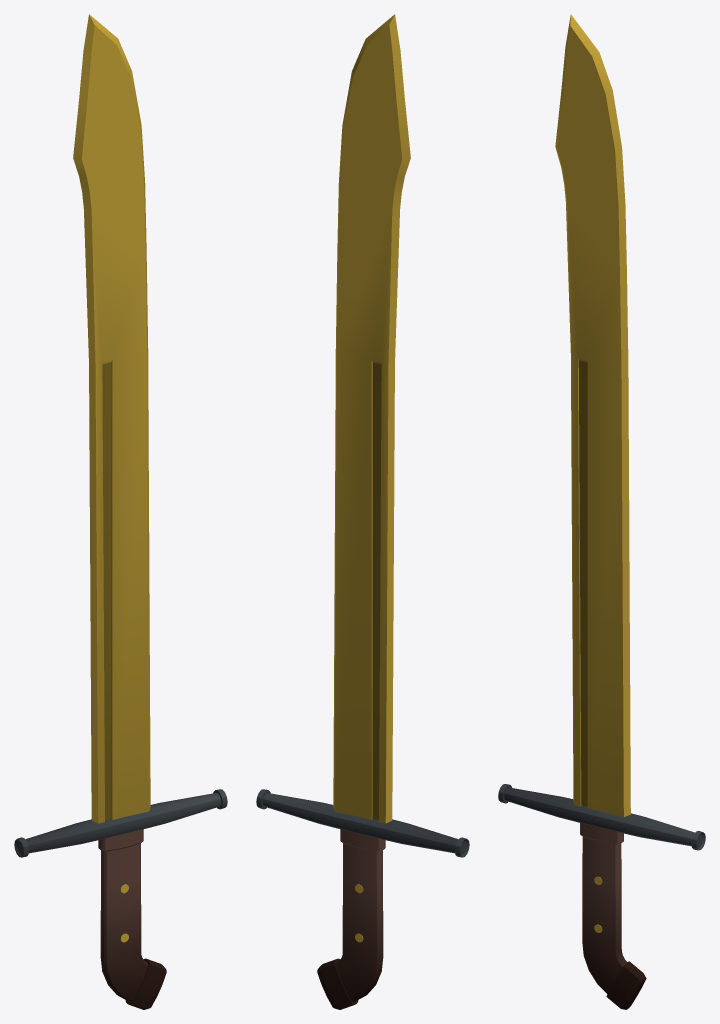
The model's file is SM_Sword12_GrosseMesser_2Gold.fbx.
3 views of the same model, side by side, from view 1: azimuth 30°, elevation 25°; view 2: azimuth 150°, elevation 25°; view 3: azimuth 330°, elevation 25° (orthographic). The views are drawn at different scales.
Visible parts, largest first — view 1: Cube.054, Cube.379, Cylinder.044; view 2: Cube.054, Cube.379, Cylinder.044; view 3: Cube.054, Cube.379, Cylinder.044.
Boxes of the visible parts, left/top/right/bottom form: Cube.054: left=73, top=14, right=150, bottom=823; Cube.379: left=98, top=829, right=166, bottom=1009; Cylinder.044: left=14, top=789, right=227, bottom=857; Cube.054: left=333, top=14, right=410, bottom=823; Cube.379: left=317, top=829, right=385, bottom=1009; Cylinder.044: left=256, top=789, right=469, bottom=857; Cube.054: left=555, top=14, right=630, bottom=817; Cube.379: left=580, top=823, right=646, bottom=1009; Cylinder.044: left=498, top=784, right=705, bottom=850.
Bounding box in the file's own units: 0.1732 × 0.8193 × 0.0189.
